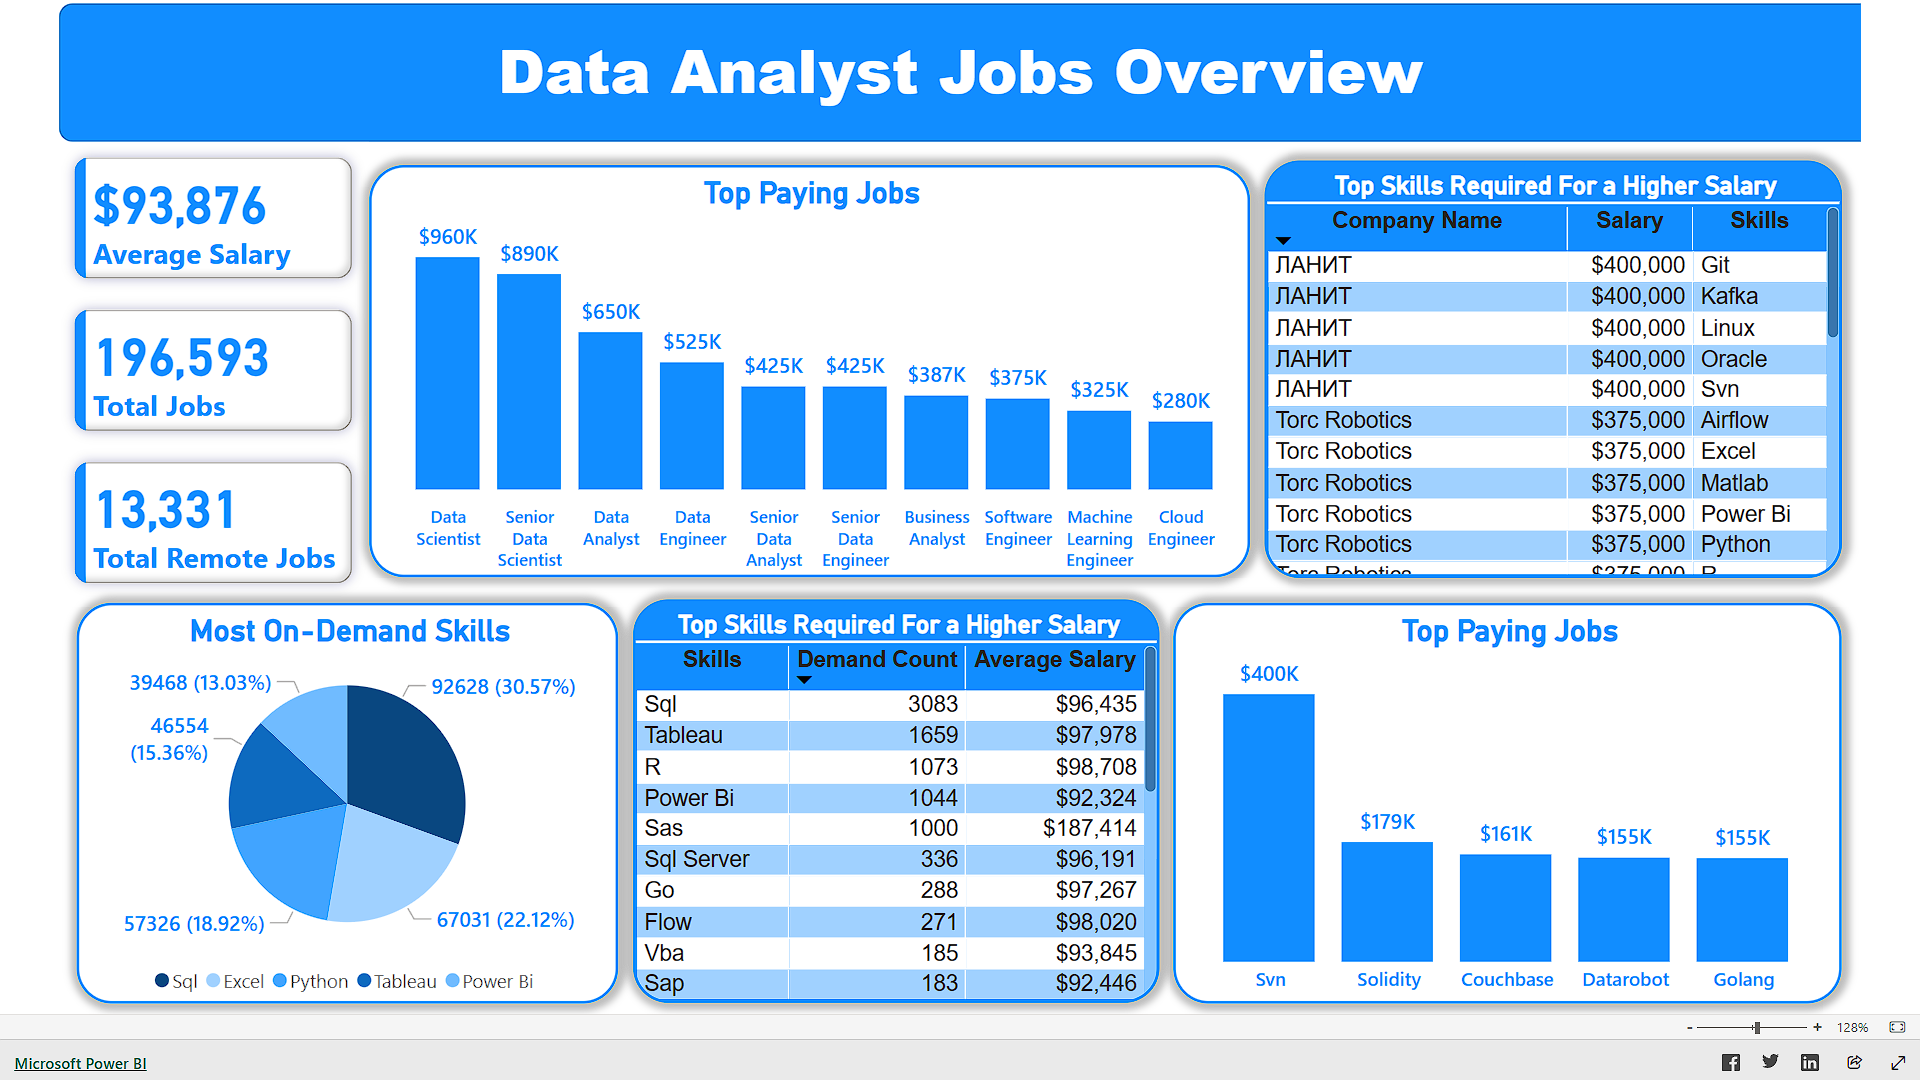

The page's visual inventory and layout, read from the dashboard file:
{"tool":"powerbi","page":{"name":"Page 1","canvas":[1280,720],"ordinal":0},"visuals":[{"type":"shape","box":[0,2.7,1500.3,98.4],"z":0},{"type":"group","id":"g1","title":"Group 1","box":[0,13.3,1280.3,77],"z":0,"group":"g2"},{"type":"textbox","box":[0,13.3,1280.3,77],"z":0,"group":"g1"},{"type":"group","id":"g2","title":"Group 2","box":[0,13.3,1280,77.1],"z":1000},{"type":"cardVisual","fields":{"Data":["Sum(0.average_salary)","Sum(0.total_jobs)","Sum(0.total_remote_jobs)"]},"box":[0,100.9,220,324.5],"z":2000},{"type":"columnChart","title":"Top Paying Jobs","fields":{"Category":["1.job_title_short"],"Y":["Sum(1.salary)"]},"box":[220,116.9,625,293.1],"z":3000},{"type":"tableEx","title":"Top Skills Required For a Higher Salary","fields":{"Values":["5.skills","Sum(5.demand_count)","Sum(5.average_salary)"]},"box":[407.5,425.6,374,286.4],"z":4000},{"type":"pieChart","title":"Most On-Demand Skills","fields":{"Category":["3.skills"],"Y":["Sum(3.demand_count)"]},"box":[12.3,427.7,384.6,284.6],"z":5000},{"type":"columnChart","title":"Top Paying Jobs","fields":{"Category":["4.skills"],"Y":["Sum(4.average_salary)"]},"box":[791.5,427.7,474.6,284.6],"z":6000},{"type":"tableEx","title":"Top Skills Required For a Higher Salary","fields":{"Values":["2.company_name","2.salary","2.skills"]},"box":[856,113.8,410,296.2],"z":7000}]}

Visuals, with their boxes on the page's 1280x720 design canvas (x1, y1, x2, y2). These are canvas units, not pixel positions in the 1920x1080 screenshot, which may show the page scaled, cropped or inside an application window:
shape: x1=0, y1=3, x2=1500, y2=101
"Group 1" group: x1=0, y1=13, x2=1280, y2=90
textbox: x1=0, y1=13, x2=1280, y2=90
"Group 2" group: x1=0, y1=13, x2=1280, y2=90
cardVisual - Sum(0.average_salary) x Sum(0.total_jobs): x1=0, y1=101, x2=220, y2=425
"Top Paying Jobs" columnChart: x1=220, y1=117, x2=845, y2=410
"Top Skills Required For a Higher Salary" tableEx: x1=408, y1=426, x2=782, y2=712
"Most On-Demand Skills" pieChart: x1=12, y1=428, x2=397, y2=712
"Top Paying Jobs" columnChart: x1=792, y1=428, x2=1266, y2=712
"Top Skills Required For a Higher Salary" tableEx: x1=856, y1=114, x2=1266, y2=410
